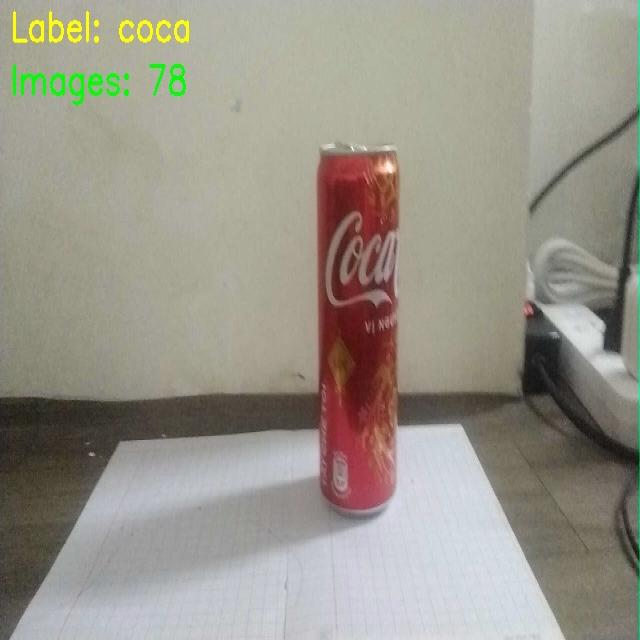Coca: (292, 120, 428, 526)
